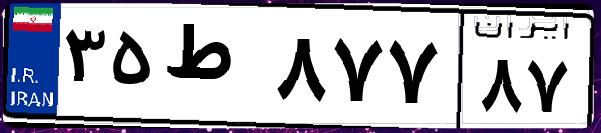3: (57, 26, 110, 100)
5: (110, 28, 158, 98)
7: (385, 28, 445, 110), (330, 28, 385, 110), (525, 38, 570, 115)
8: (270, 28, 330, 110), (475, 38, 525, 113)
ط: (158, 20, 270, 120)
